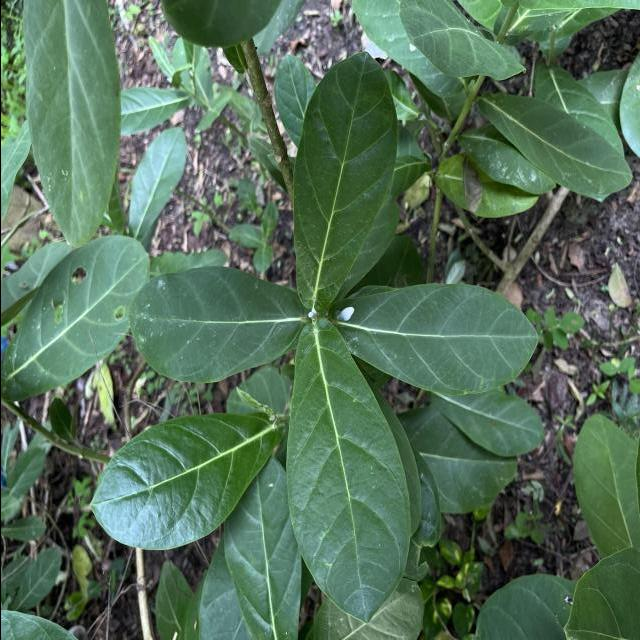Calotropis gigantea: (284, 316, 412, 627), (291, 49, 398, 317), (87, 410, 284, 552), (0, 234, 150, 402), (326, 282, 539, 398), (125, 264, 307, 386), (474, 91, 634, 198), (222, 460, 303, 640), (431, 392, 546, 459)
